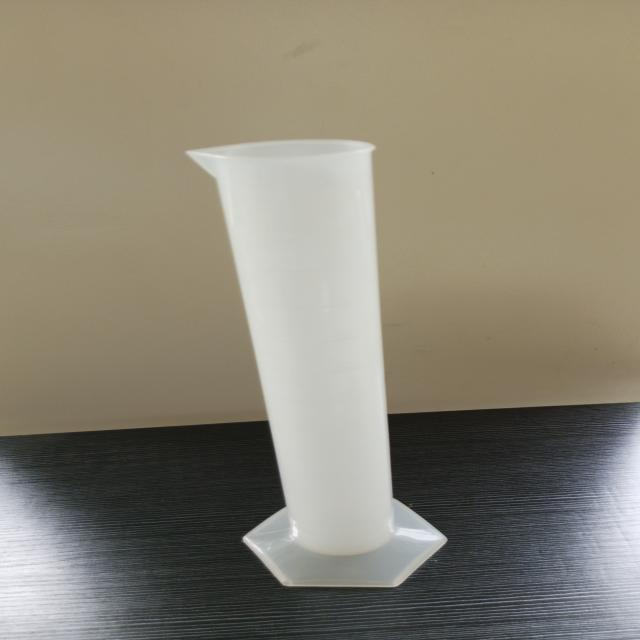graduated_cylinder: (132, 129, 478, 597)
